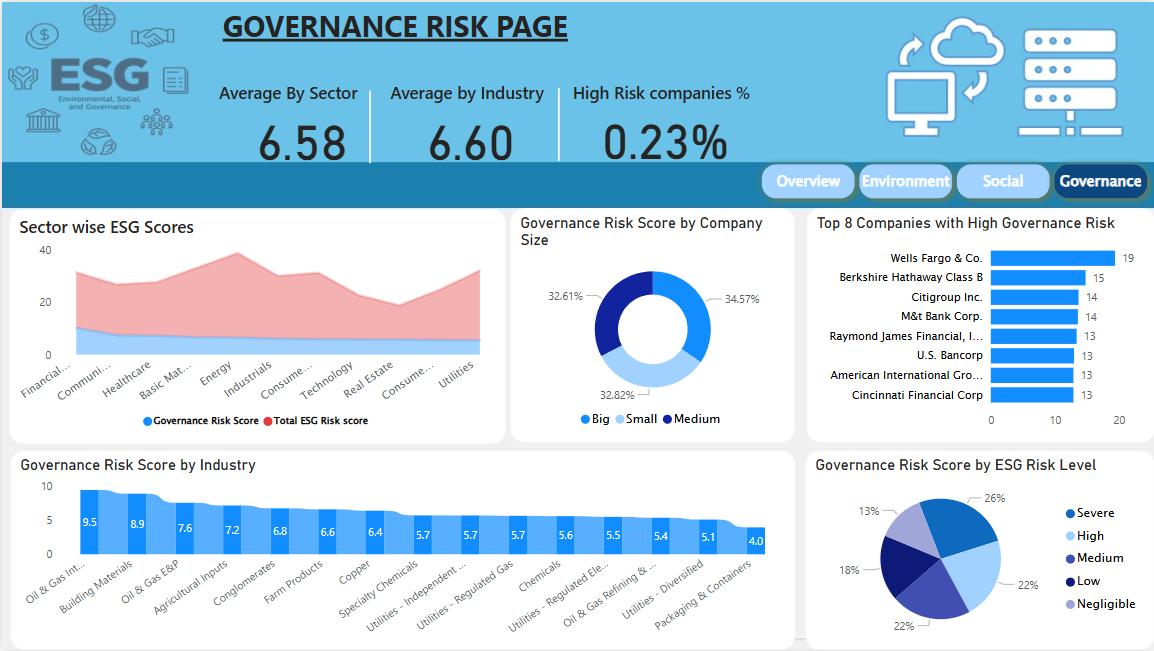

This screenshot's page, from the dashboard's own definition file:
{"tool":"powerbi","page":{"name":"Governance","canvas":[1280,720],"ordinal":3},"visuals":[{"type":"ribbonChart","title":"Governance Risk Score by Industry","fields":{"Category":["SP 500 ESG Risk Ratings.Industry"],"Y":["Avg(SP 500 ESG Risk Ratings.Governance Risk Score)"]},"box":[9.7,498.6,870.8,220.8],"z":2000},{"type":"barChart","title":"Top 8 Companies with High Governance Risk","fields":{"Category":["SP 500 ESG Risk Ratings.Name"],"Y":["Sum(SP 500 ESG Risk Ratings.Governance Risk Score)"]},"box":[893.9,229.2,386.1,259.7],"z":3000},{"type":"stackedAreaChart","title":"Sector wise ESG Scores","fields":{"Category":["SP 500 ESG Risk Ratings.Sector"],"Y":["Avg(SP 500 ESG Risk Ratings.Governance Risk Score)","Avg(SP 500 ESG Risk Ratings.Total ESG Risk score)"]},"box":[8.3,230.6,551.4,259.7],"z":4000},{"type":"donutChart","title":"Governance Risk Score by Company Size","fields":{"Category":["SP 500 ESG Risk Ratings.Company Size"],"Y":["Avg(SP 500 ESG Risk Ratings.Governance Risk Score)"]},"box":[565.3,229.2,315.3,259.7],"z":5000},{"type":"pieChart","title":"Governance Risk Score by ESG Risk Level","fields":{"Category":["SP 500 ESG Risk Ratings.ESG Risk Level"],"Y":["Avg(SP 500 ESG Risk Ratings.Governance Risk Score)"]},"box":[893.1,498.6,387.5,220.8],"z":6000},{"type":"shape","box":[836.1,172.2,119.4,54.2],"z":7000},{"type":"shape","box":[944.4,172.2,119.4,54.2],"z":8000},{"type":"shape","box":[1052.8,172.2,119.4,54.2],"z":9000},{"type":"shape","box":[1160.6,172.2,119.4,54.2],"z":10000},{"type":"textbox","box":[240.3,0,429.2,62.5],"z":10001},{"type":"card","title":"High Risk companies %","fields":{"Values":["Table.No. of companies(GRS >15)"]},"box":[629.2,87.5,216.7,101.4],"z":10002},{"type":"card","title":"Average By Sector","fields":{"Values":["Table.AGS(Sector)"]},"box":[236.1,87.5,194.4,104.2],"z":10003},{"type":"card","title":"Average by Industry","fields":{"Values":["Table.AGS(Industry)"]},"box":[426.4,87.5,188.9,104.2],"z":10004},{"type":"shape","box":[387.5,98.6,43.1,80.6],"z":10005},{"type":"shape","box":[599.9,95.8,37.5,80.6],"z":10006}]}

Visuals, with their boxes in screenshot pixels (x1, y1, x2, y2), scaled from the page's 1280x720 canvas onto the 1154x651 screenshot:
"Governance Risk Score by Industry" ribbonChart: crop(9, 451, 794, 650)
"Top 8 Companies with High Governance Risk" barChart: crop(806, 207, 1153, 442)
"Sector wise ESG Scores" stackedAreaChart: crop(7, 209, 505, 443)
"Governance Risk Score by Company Size" donutChart: crop(510, 207, 794, 442)
"Governance Risk Score by ESG Risk Level" pieChart: crop(805, 451, 1153, 650)
shape: crop(754, 156, 861, 205)
shape: crop(851, 156, 959, 205)
shape: crop(949, 156, 1057, 205)
shape: crop(1046, 156, 1153, 205)
textbox: crop(217, 0, 604, 57)
"High Risk companies %" card: crop(567, 79, 763, 171)
"Average By Sector" card: crop(213, 79, 388, 173)
"Average by Industry" card: crop(384, 79, 555, 173)
shape: crop(349, 89, 388, 162)
shape: crop(541, 87, 575, 159)
